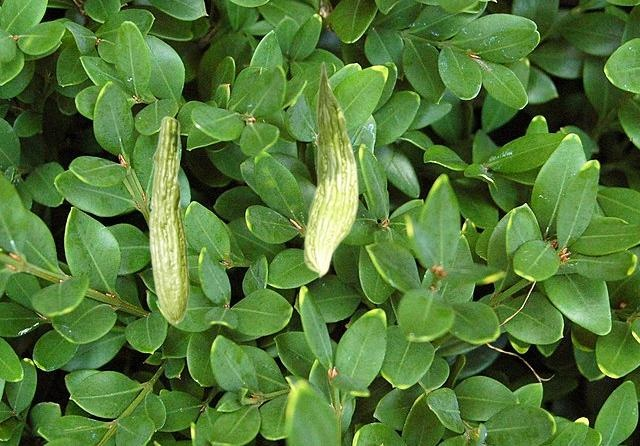ampalaya: (302, 60, 360, 279), (148, 114, 191, 326)
